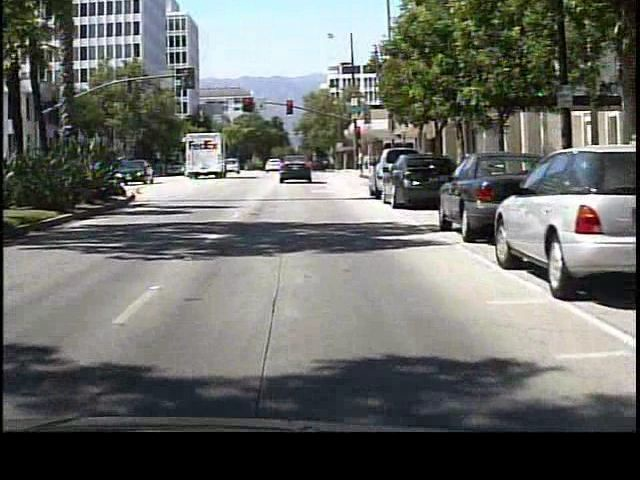person: (354, 147, 368, 177)
